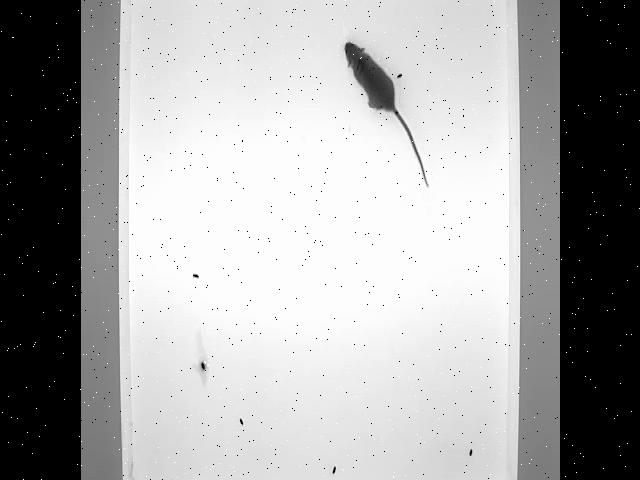Tikus: (340, 39, 432, 195)
